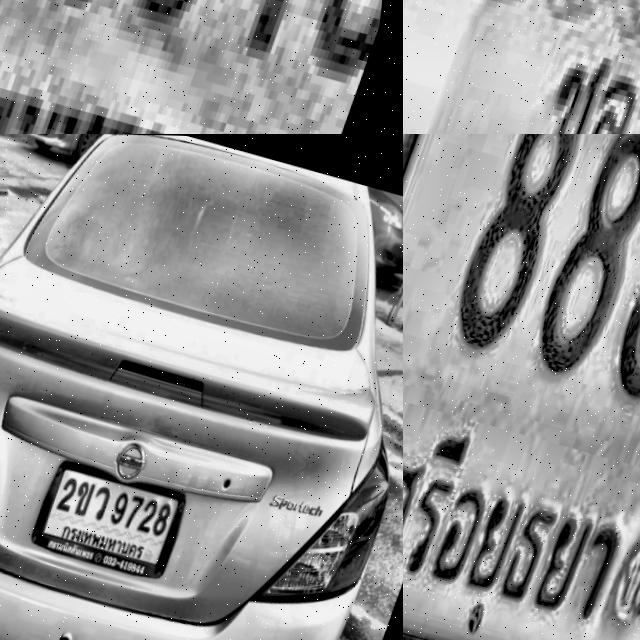license-plate: (403, 134, 640, 640), (0, 0, 403, 134), (403, 0, 640, 134), (31, 453, 203, 583)
